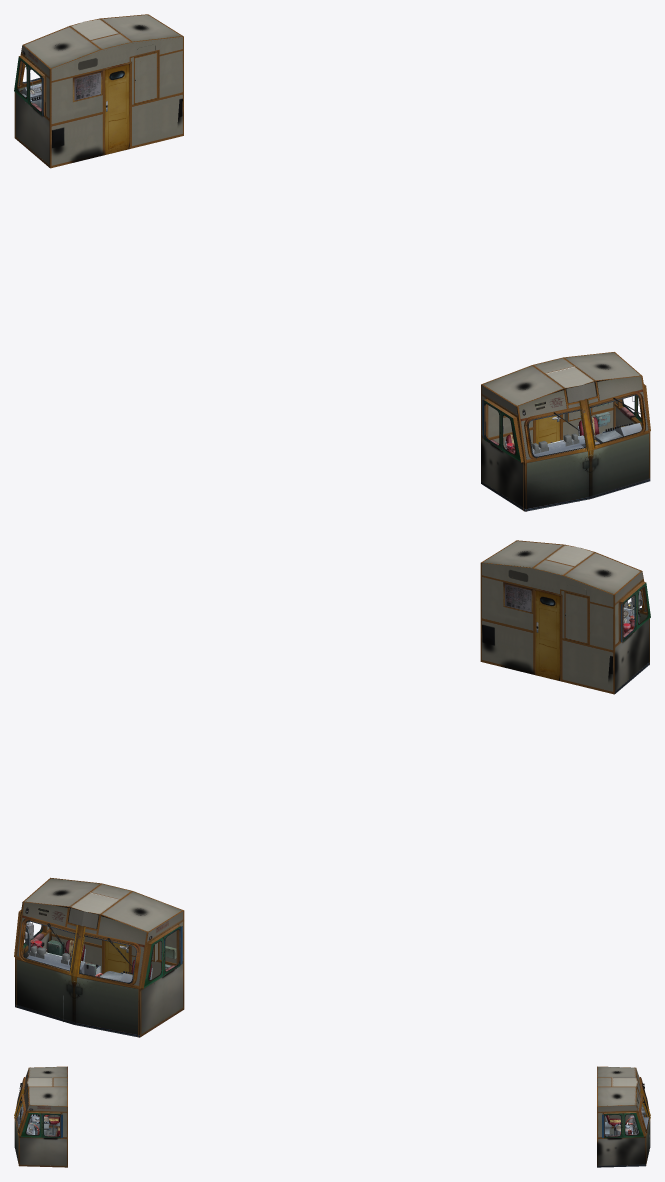
File: VL60pk-cabview.gltf
3 renders of one model, top to bottom at view 1: azimuth 30°, elevation 25°; view 2: azimuth 150°, elevation 25°; view 3: azimuth 270°, elevation 25°, orthographic. The views are drawn at different scales.
Parts seen in each view (by area): view 1: Cab1_Kab_korpus, Cab2_Kab_korpus, Cab2_Pult_mainKorp; view 2: Cab2_Kab_korpus, Cab1_Kab_korpus, Cab1_Pult_mainKorp; view 3: Cab1_Kab_korpus, Cab2_Kab_korpus, Cab2_Pult_mainKorp, Cab1_Pult_mainKorp, Cab2_Sidushka.
Part boxes in pixels (x1=…): Cab1_Kab_korpus: x1=14, y1=14, x2=183, y2=168; Cab2_Kab_korpus: x1=481, y1=352, x2=650, y2=511; Cab2_Pult_mainKorp: x1=532, y1=433, x2=594, y2=500; Cab2_Kab_korpus: x1=480, y1=540, x2=650, y2=694; Cab1_Kab_korpus: x1=14, y1=877, x2=184, y2=1037; Cab1_Pult_mainKorp: x1=26, y1=945, x2=100, y2=1021; Cab1_Kab_korpus: x1=597, y1=1066, x2=650, y2=1167; Cab2_Kab_korpus: x1=14, y1=1066, x2=67, y2=1167; Cab2_Pult_mainKorp: x1=17, y1=1100, x2=49, y2=1135; Cab1_Pult_mainKorp: x1=615, y1=1112, x2=649, y2=1150; Cab2_Sidushka: x1=48, y1=1116, x2=59, y2=1136.
Bounding box in the file's own units: 3.03 × 2.22 × 19.49.
Materials: 16 (16 with a texture image).
